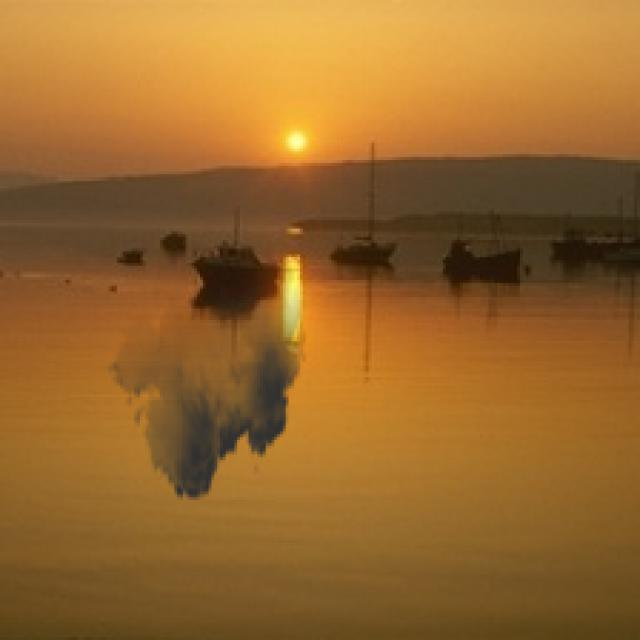Smoke: (106, 239, 306, 512)
